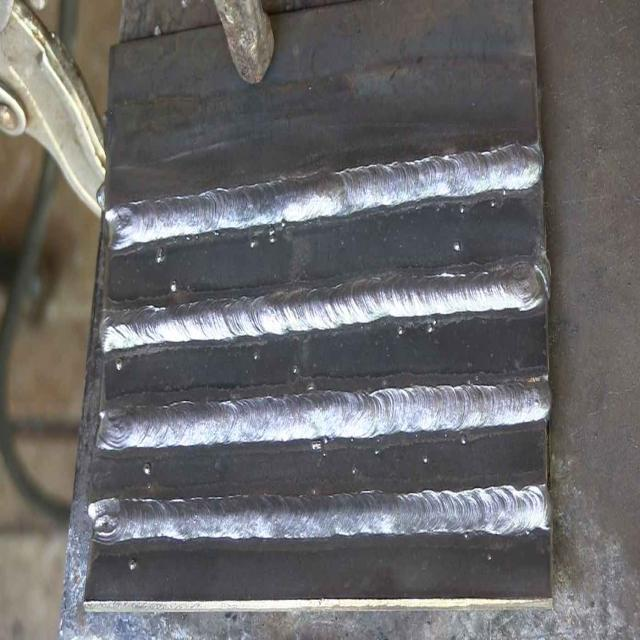Good Welding: (100, 252, 549, 365), (105, 144, 542, 252), (96, 375, 550, 454), (90, 487, 549, 547)
